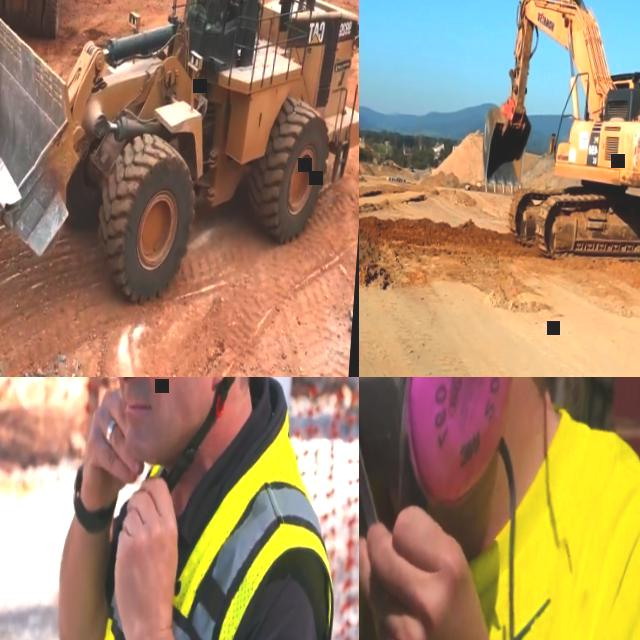machinery: (0, 0, 359, 317), (476, 0, 640, 267)
mask: (359, 377, 526, 537)
no_mask: (109, 377, 208, 469)
no_vest: (359, 390, 640, 640)
person: (49, 377, 359, 640), (359, 377, 640, 640)
vest: (86, 400, 350, 640)
